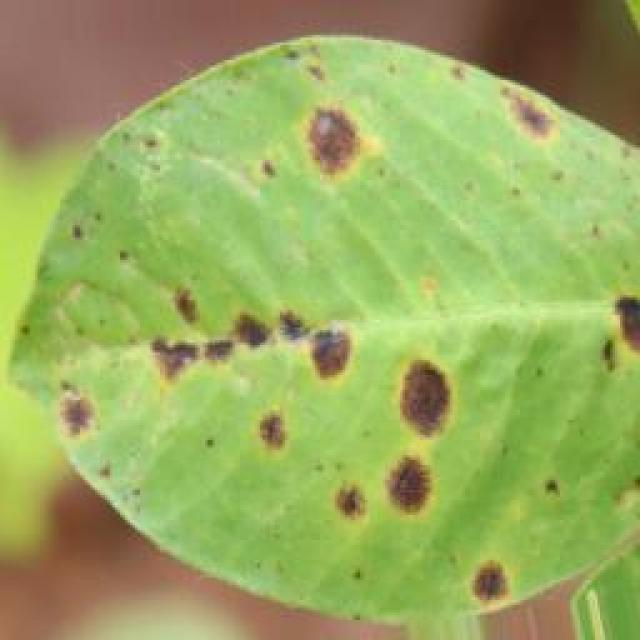Yellowish: (10, 45, 638, 640)
